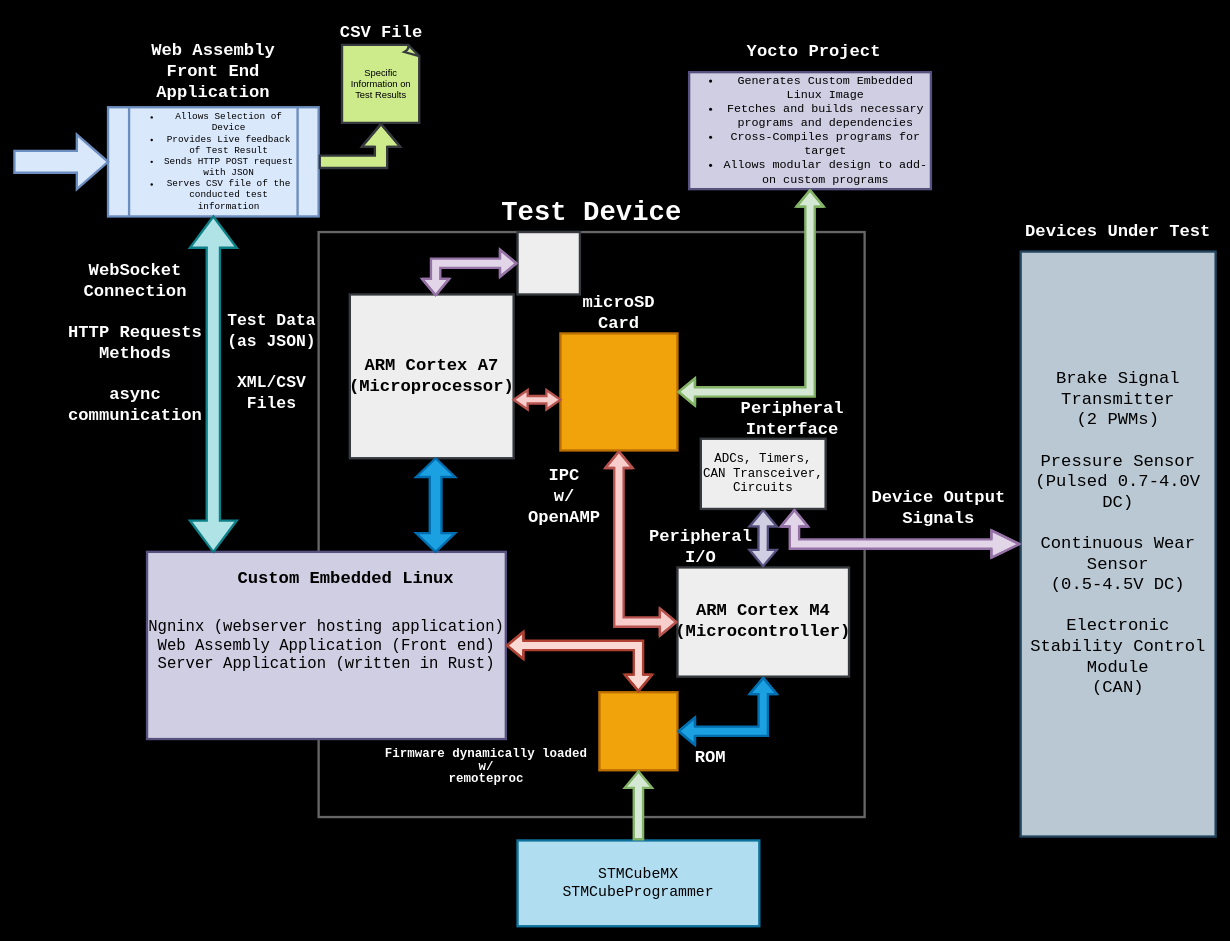
This 1230x941 diagram has some shape labels left out. Each missing label, with the centre of its shape:
Bootable Linux Image Linux File System Shared Memory Space: the point at 618,391
Microcontroller Firmware: the point at 638,731
User Input: the point at 61,161
Wi-Fi Module: the point at 548,262
